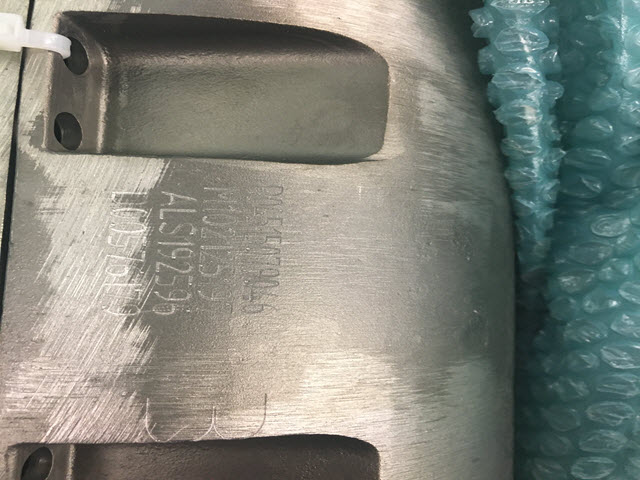character: (157, 186, 199, 206), (157, 204, 199, 222), (153, 246, 197, 262), (157, 220, 197, 237), (152, 259, 194, 274), (153, 272, 193, 286), (153, 287, 193, 301), (155, 237, 197, 249)
